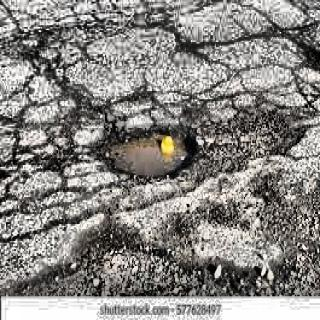alligator-crack: (83, 15, 315, 116), (2, 69, 90, 220)
pothole: (209, 120, 310, 192), (91, 119, 201, 184)
